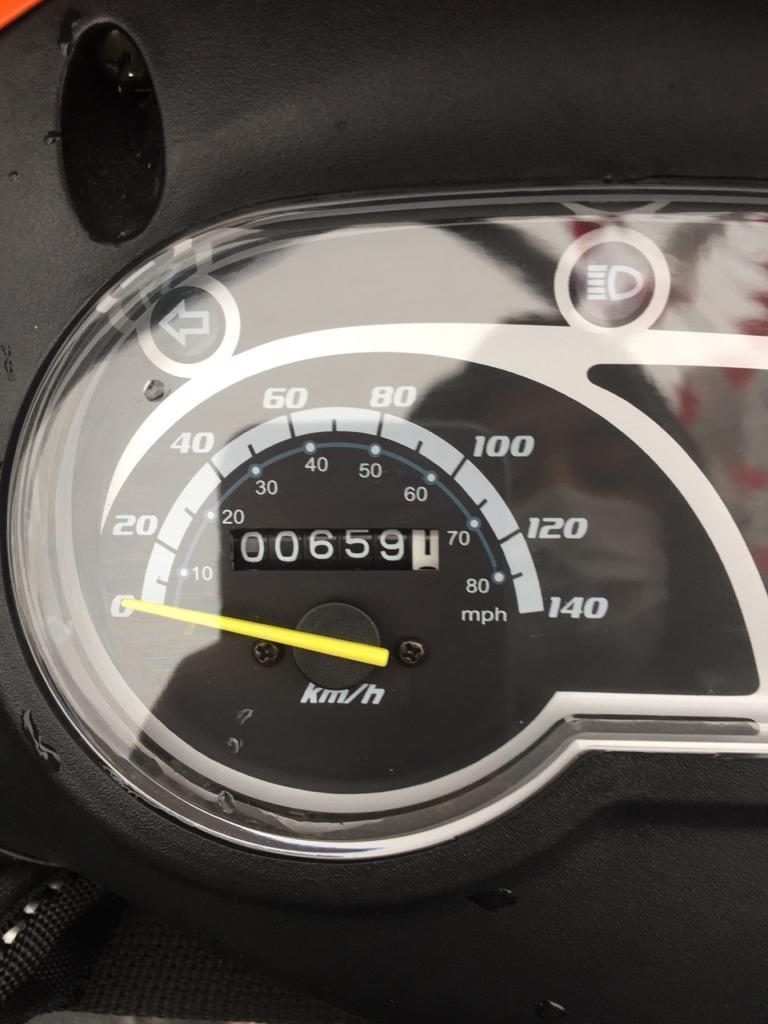0: (235, 527, 267, 564), (272, 526, 301, 566)
1: (419, 527, 438, 558)
5: (343, 526, 371, 563)
6: (308, 527, 336, 562)
9: (377, 529, 408, 566)
odometer: (227, 522, 444, 576)
